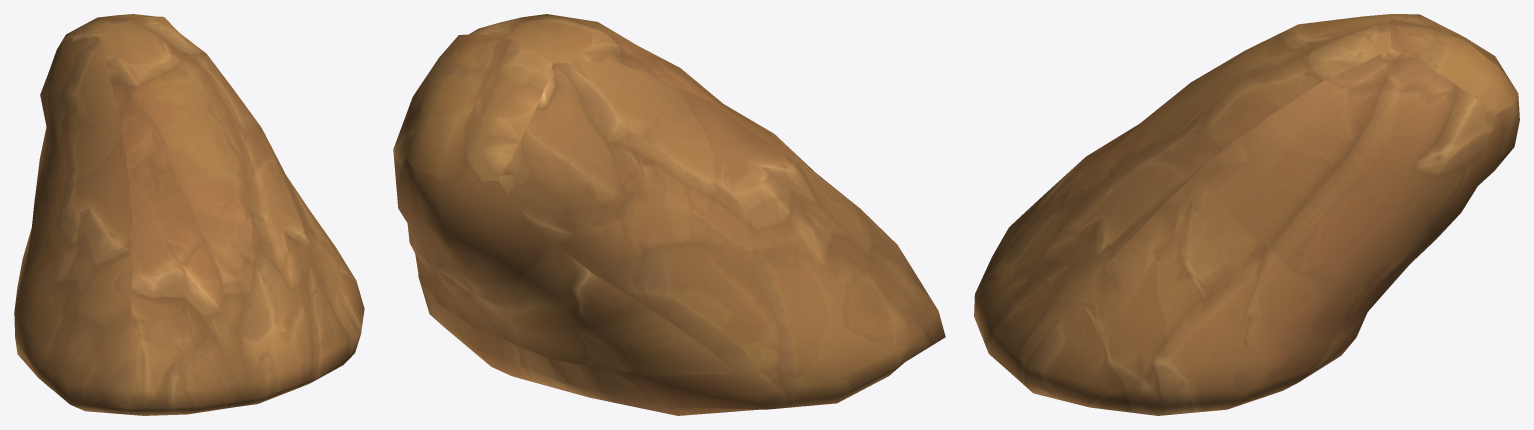
File: Lowest_islands2.fbx
3 views of the same model, side by side, from view 1: azimuth 30°, elevation 25°; view 2: azimuth 150°, elevation 25°; view 3: azimuth 270°, elevation 25° (orthographic). The views are drawn at different scales.
Parts seen in each view (by area): view 1: Cube.001; view 2: Cube.001; view 3: Cube.001.
Part boxes in pixels (x1,y1,x2,y2): Cube.001: (14, 14, 364, 415); Cube.001: (393, 14, 945, 415); Cube.001: (974, 14, 1519, 415).
Size of the model in its own units: 1271 by 1113 by 1540.
1 material, 1 textured.
